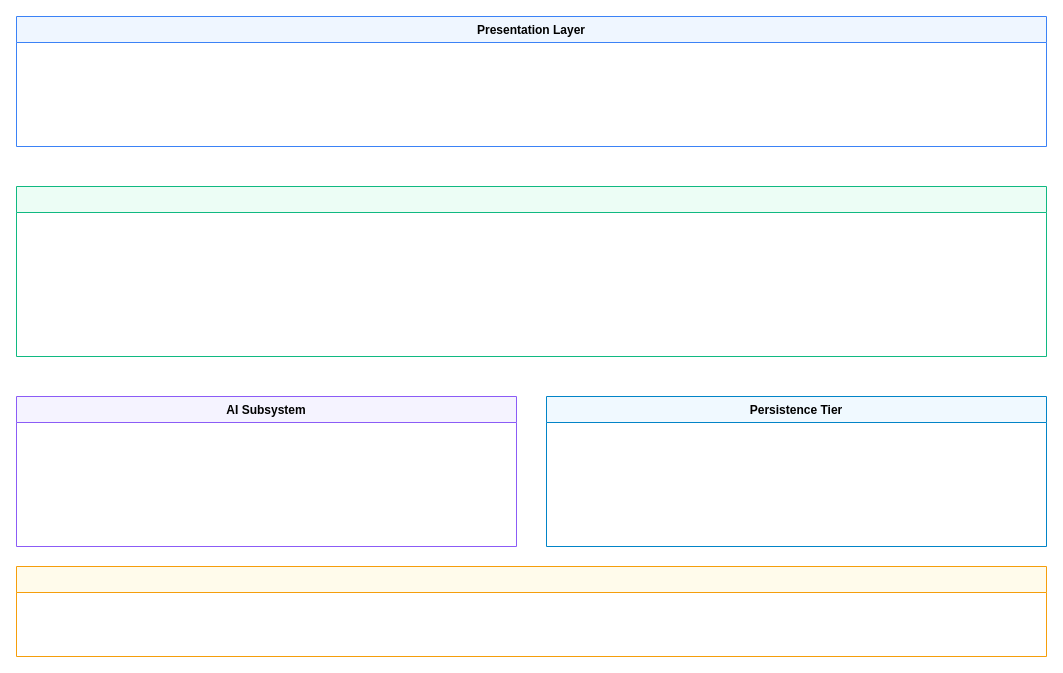
Image size: 1063x673. Some labels were removed from this diagram. Each missing label, with the centre of its shape:
"Application Tier" goes at [531,271].
"External Gateways" goes at [531,611].
